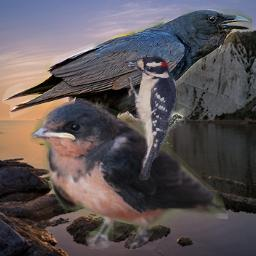Crow: (2, 9, 252, 191)
Swallow: (30, 98, 228, 250)
Woodpecker: (123, 53, 179, 180)
